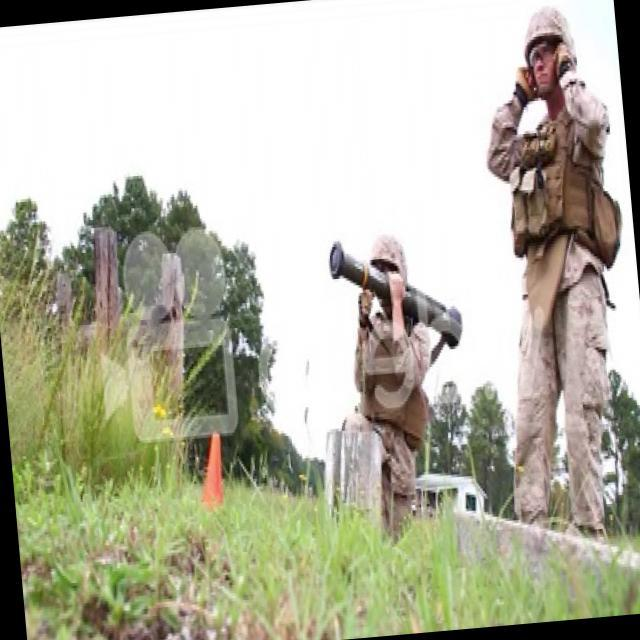rocket: (332, 234, 464, 364)
